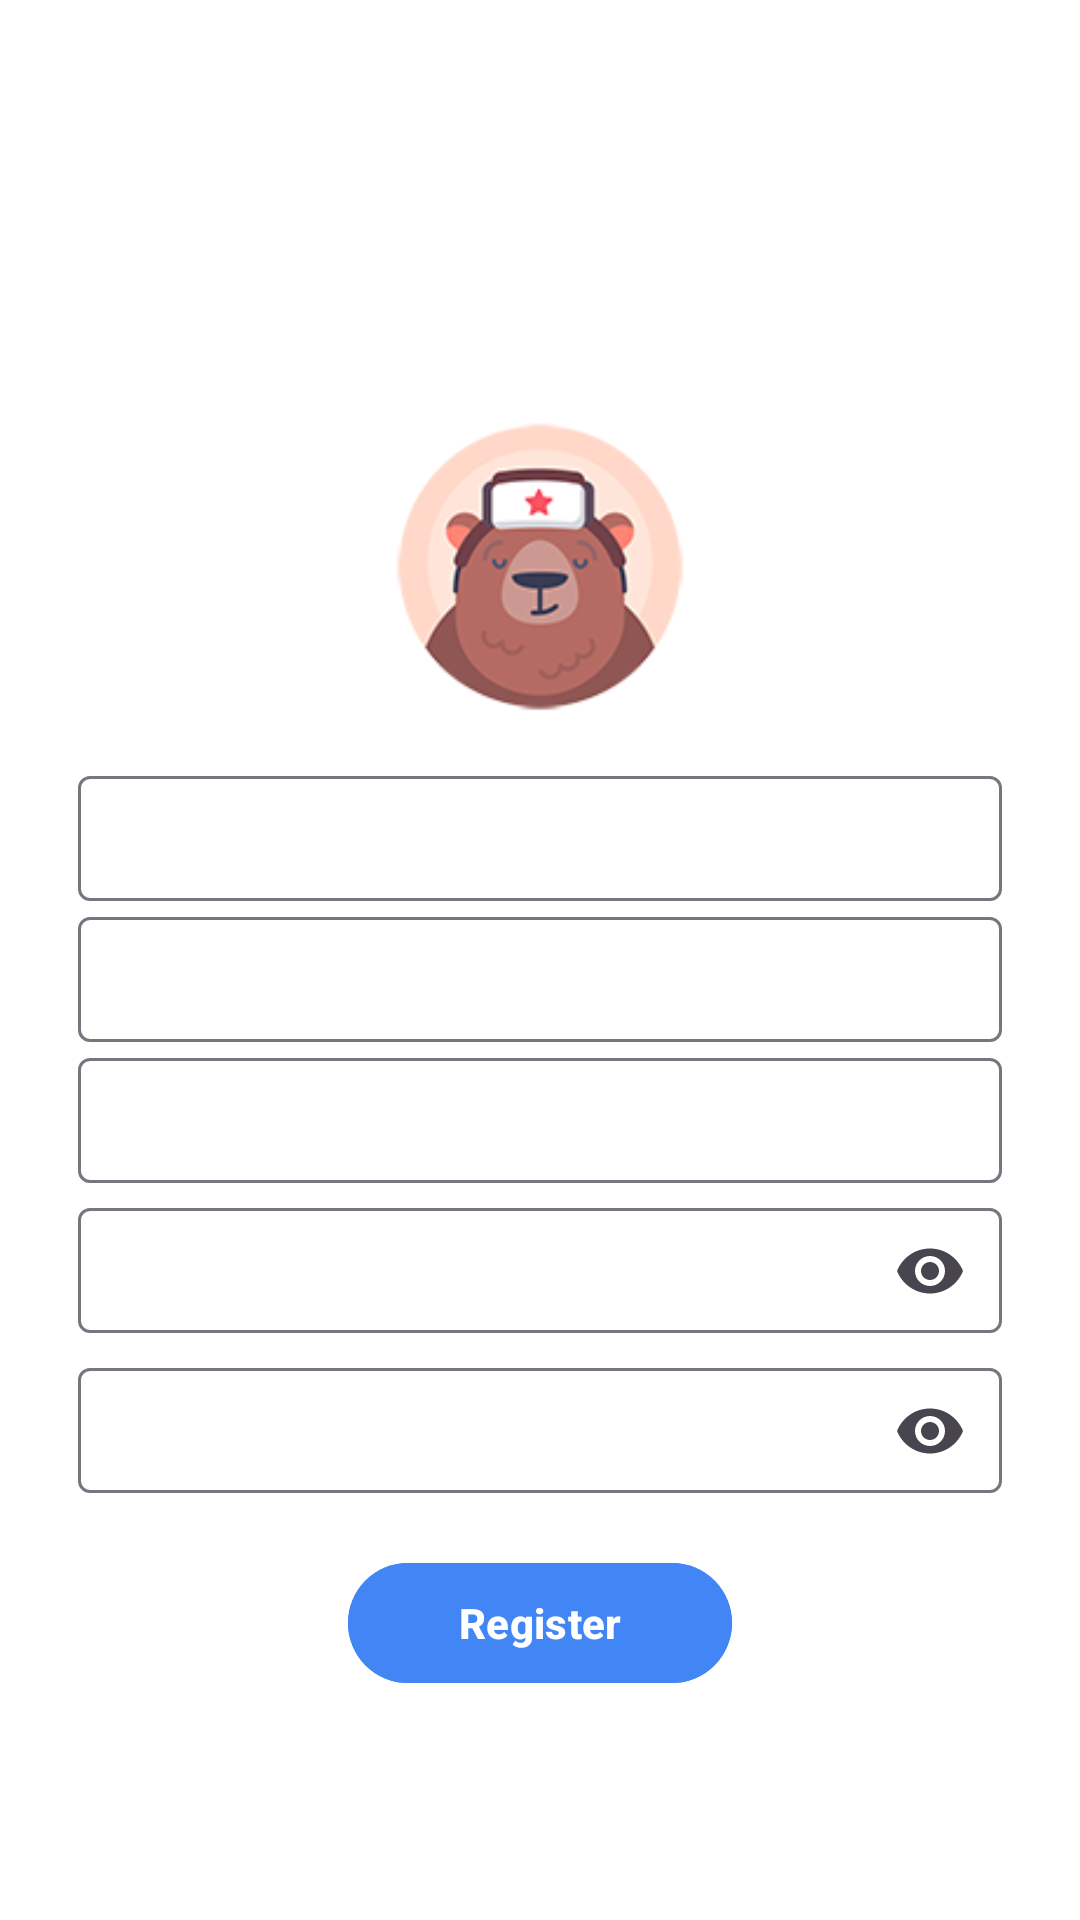

Named icons in this screenshot (1080×1920) and their bounding boxes, [left=x1, top=y1, right=x2, bottom=y2]:
User Avatar: [left=398, top=424, right=682, bottom=710]
